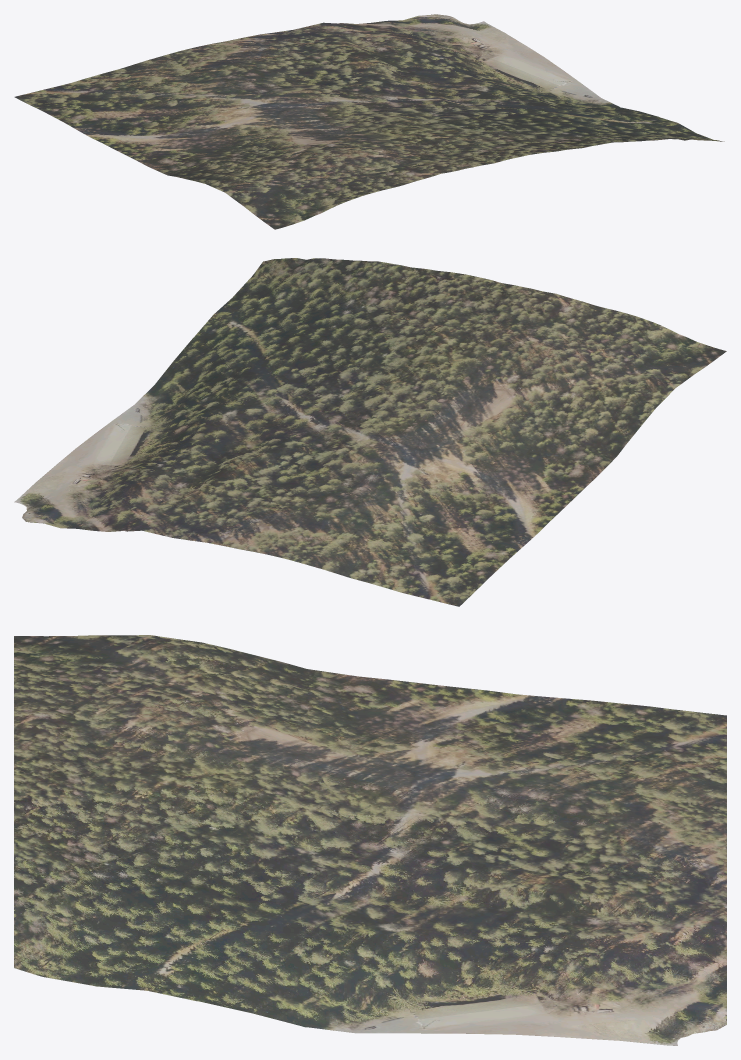
Rendered from CM_Terrain_24489230_6822660.fbx.
The picture shows the model from 3 angles, top to bottom: view 1: azimuth 30°, elevation 25°; view 2: azimuth 150°, elevation 25°; view 3: azimuth 270°, elevation 25°; orthographic projection. The views are drawn at different scales.
Visible parts, largest first — view 1: CM_Terrain_24489230_6822660_LOD0; view 2: CM_Terrain_24489230_6822660_LOD0; view 3: CM_Terrain_24489230_6822660_LOD0.
Part boxes in pixels (left/top/right/bottom): CM_Terrain_24489230_6822660_LOD0: left=14, top=14, right=724, bottom=229; CM_Terrain_24489230_6822660_LOD0: left=14, top=258, right=726, bottom=606; CM_Terrain_24489230_6822660_LOD0: left=14, top=635, right=726, bottom=1045.
Size of what is drawn, in the model's own units: 205 by 41.52 by 205.
